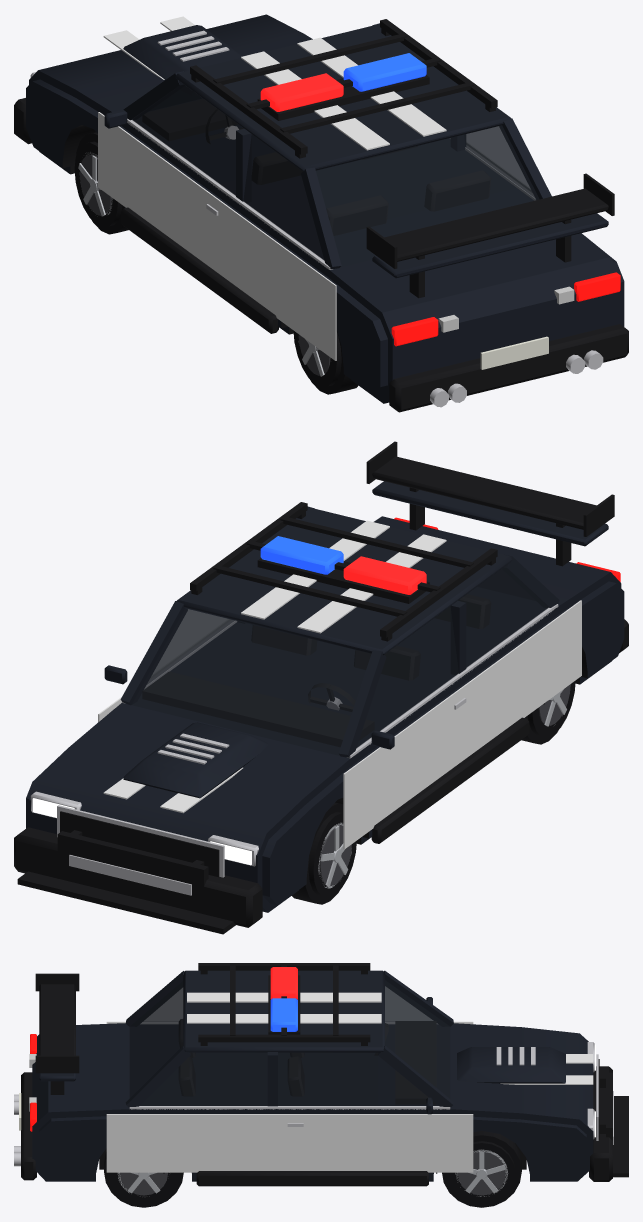
The model's file is police.glb.
The picture shows the model from 3 angles, top to bottom: view 1: azimuth 30°, elevation 25°; view 2: azimuth 150°, elevation 25°; view 3: azimuth 270°, elevation 25°; orthographic projection. The views are drawn at different scales.
Visible parts, largest first — view 1: Body.007, Mod_spoiler_2.005, Mod_roof_1.007, Mod_livery_1.007, Mod_spoiler_1.005, Mod_skirts_1.007, Mod_hood_1.007, Wheel_FL.007, Wheel_RL.007, Mod_exhaust_2.007, Mod_hood_2.007; view 2: Body.007, Mod_spoiler_2.005, Mod_bumper_1.007, Mod_roof_1.007, Mod_hood_1.007, Mod_livery_1.007, Mod_spoiler_1.005, Mod_skirts_1.007, Wheel_FL.007, Mod_bumper_2.007, Mod_grille_2.007, Mod_grille_1.007 (+2 smaller); view 3: Body.007, Mod_spoiler_2.005, Wheel_FR.007, Mod_livery_1.007, Mod_roof_1.007, Mod_skirts_1.007, Mod_hood_1.007, Wheel_RR.007, Mod_bumper_1.007, Mod_bumper_2.007, Mod_spoiler_1.005, Mod_hood_2.007.
Boxes of the visible parts, <box> form: Body.007: <box>26,14,628,412</box>; Mod_spoiler_2.005: <box>366,173,614,296</box>; Mod_roof_1.007: <box>190,19,497,158</box>; Mod_livery_1.007: <box>103,16,446,150</box>; Mod_spoiler_1.005: <box>372,213,608,298</box>; Mod_skirts_1.007: <box>121,207,278,333</box>; Mod_hood_1.007: <box>123,25,242,95</box>; Wheel_FL.007: <box>74,132,128,234</box>; Wheel_RL.007: <box>293,330,358,394</box>; Mod_exhaust_2.007: <box>430,350,603,407</box>; Mod_hood_2.007: <box>157,30,229,61</box>; Body.007: <box>26,506,628,912</box>; Mod_spoiler_2.005: <box>366,441,614,565</box>; Mod_bumper_1.007: <box>14,827,262,927</box>; Mod_roof_1.007: <box>190,502,497,641</box>; Mod_hood_1.007: <box>123,722,268,798</box>; Mod_livery_1.007: <box>103,520,446,813</box>; Mod_spoiler_1.005: <box>372,481,608,566</box>; Mod_skirts_1.007: <box>371,717,529,843</box>; Wheel_FL.007: <box>292,802,356,904</box>; Mod_bumper_2.007: <box>17,871,235,934</box>; Mod_grille_2.007: <box>57,805,224,877</box>; Mod_grille_1.007: <box>69,812,210,865</box>; Body.007: <box>19,967,612,1181</box>; Mod_spoiler_2.005: <box>35,973,79,1094</box>; Wheel_FR.007: <box>442,1130,521,1207</box>; Mod_livery_1.007: <box>187,992,593,1084</box>; Mod_roof_1.007: <box>198,963,370,1045</box>; Mod_skirts_1.007: <box>196,1171,428,1186</box>; Mod_hood_1.007: <box>457,1047,565,1083</box>; Wheel_RR.007: <box>104,1151,183,1207</box>; Mod_bumper_1.007: <box>590,1066,613,1181</box>; Mod_bumper_2.007: <box>613,1096,628,1177</box>; Mod_spoiler_1.005: <box>39,1073,75,1094</box>; Mod_hood_2.007: <box>496,1047,535,1065</box>.
Bounding box in the file's own units: 2.24 × 1.64 × 5.37.
